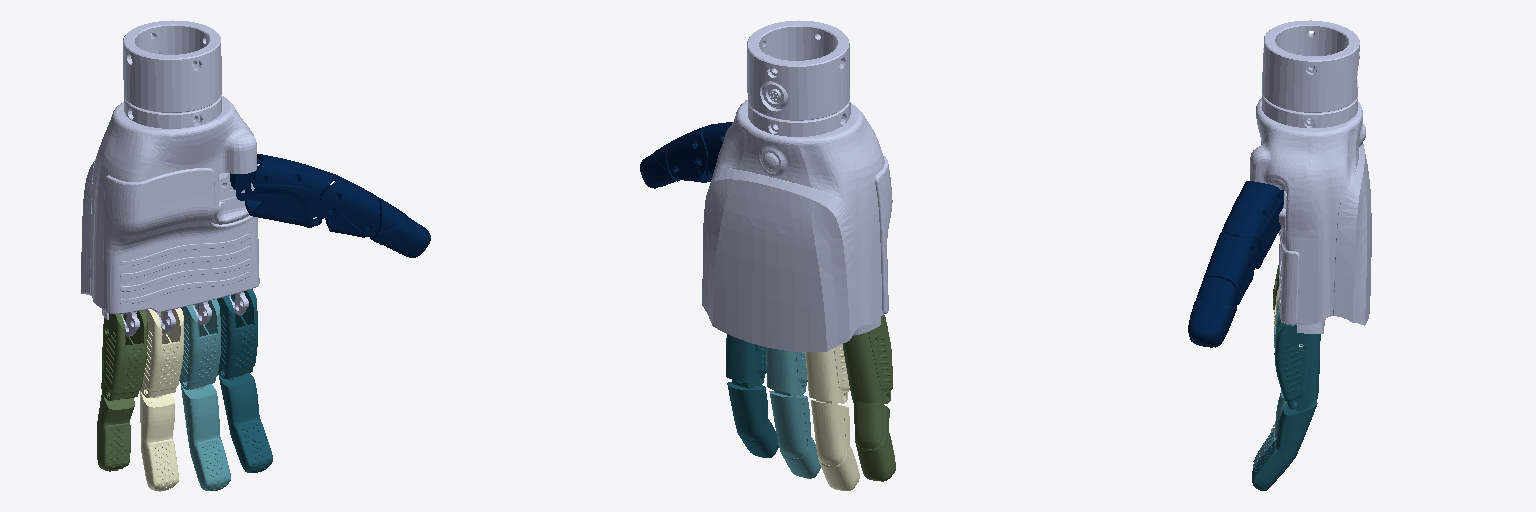
The robot description file, URDF, robot "combined_robot":
<?xml version="1.0" ?>
<!-- =================================================================================== -->
<!-- |    This document was autogenerated by xacro from [local-path]/paradex/paradex/utils/../../rsc/robot/robot_combined.urdf.xacro | -->
<!-- |    EDITING THIS FILE BY HAND IS NOT RECOMMENDED                                 | -->
<!-- =================================================================================== -->
<robot name="combined_robot">
  <!--
      Material colors
    -->
  <!-- Basic colors -->
  <material name="Black">
    <color rgba="0.0 0.0 0.0 1.0"/>
  </material>
  <material name="Red">
    <color rgba="0.8 0.0 0.0 1.0"/>
  </material>
  <material name="White">
    <color rgba="1.0 1.0 1.0 1.0"/>
  </material>
  <material name="Silver">
    <color rgba="0.753 0.753 0.753 1.0"/>
  </material>
  <!--
    Base
  -->
  <!-- Base link -->
  <link name="world"/>
  <joint name="world_joint" type="fixed">
    <parent link="world"/>
    <child link="link_base"/>
    <origin rpy="0 0 0" xyz="0 0 0"/>
  </joint>
  <link name="link_base">
    <visual>
      <geometry>
        <mesh filename="xarm/meshes/base.obj"/>
      </geometry>
      <origin rpy="0 0 0" xyz="0 0 0"/>
      <material name="White"/>
    </visual>
    <collision>
      <geometry>
        <mesh filename="xarm/meshes/base.obj"/>
      </geometry>
      <origin rpy="0 0 0" xyz="0 0 0"/>
    </collision>
    <inertial>
      <origin rpy="0 0 0" xyz="0.0 0.0 0.09103"/>
      <mass value="2.7"/>
      <inertia ixx="0.00494875" ixy="-3.5E-06" ixz="1.25E-05" iyy="0.00494174" iyz="1.67E-06" izz="0.002219"/>
    </inertial>
  </link>
  <link name="link1">
    <visual>
      <geometry>
        <mesh filename="xarm/meshes/link1.obj"/>
      </geometry>
      <origin rpy="0 0 0" xyz="0 0 0"/>
      <material name="White"/>
    </visual>
    <collision>
      <geometry>
        <mesh filename="xarm/meshes/link1.obj"/>
      </geometry>
      <origin rpy="0 0 0" xyz="0 0 0"/>
    </collision>
    <inertial>
      <origin rpy="0 0 0" xyz="-0.002 0.02692 -0.01332"/>
      <mass value="2.16"/>
      <inertia ixx="0.00539427" ixy="1.095E-05" ixz="1.635E-06" iyy="0.0048979" iyz="0.000793" izz="0.00311573"/>
    </inertial>
  </link>
  <joint name="joint1" type="revolute">
    <parent link="link_base"/>
    <child link="link1"/>
    <origin rpy="0 0 0" xyz="0 0 0.267"/>
    <axis xyz="0 0 1"/>
    <limit effort="500.0" lower="-6.28318530718" upper="6.28318530718" velocity="3.14"/>
    <dynamics damping="0.0001" friction="0.01"/>
  </joint>
  <link name="link2">
    <visual>
      <geometry>
        <mesh filename="xarm/meshes/link2.obj"/>
      </geometry>
      <origin rpy="0 0 0" xyz="0 0 0"/>
      <material name="White"/>
    </visual>
    <collision>
      <geometry>
        <mesh filename="xarm/meshes/link2.obj"/>
      </geometry>
      <origin rpy="0 0 0" xyz="0 0 0"/>
    </collision>
    <inertial>
      <origin rpy="0 0 0" xyz="0.03531 -0.21398 0.03386"/>
      <mass value="1.71"/>
      <inertia ixx="0.0248674" ixy="-0.00430651" ixz="-0.00067797" iyy="0.00485548" iyz="0.00457245" izz="0.02387827"/>
    </inertial>
  </link>
  <joint name="joint2" type="revolute">
    <parent link="link1"/>
    <child link="link2"/>
    <origin rpy="-1.5708 0 0" xyz="0 0 0"/>
    <axis xyz="0 0 1"/>
    <limit effort="50.0" lower="-2.059" upper="2.0944" velocity="3.14"/>
    <dynamics damping="0.0001" friction="0.01"/>
  </joint>
  <link name="link3">
    <visual>
      <geometry>
        <mesh filename="xarm/meshes/link3.obj"/>
      </geometry>
      <origin rpy="0 0 0" xyz="0 0 0"/>
      <material name="White"/>
    </visual>
    <collision>
      <geometry>
        <mesh filename="xarm/meshes/link3.obj"/>
      </geometry>
      <origin rpy="0 0 0" xyz="0 0 0"/>
    </collision>
    <inertial>
      <origin rpy="0 0 0" xyz="0.06781 0.10749 0.01457"/>
      <mass value="1.384"/>
      <inertia ixx="0.0053694" ixy="0.0014185" ixz="-0.00092094" iyy="0.0032423" iyz="-0.00169178" izz="0.00501731"/>
    </inertial>
  </link>
  <joint name="joint3" type="revolute">
    <parent link="link2"/>
    <child link="link3"/>
    <origin rpy="0 0 0" xyz="0.0535 -0.2845 0"/>
    <axis xyz="0 0 1"/>
    <limit effort="32.0" lower="-3.927" upper="0.19198" velocity="3.14"/>
    <dynamics damping="0.0001" friction="0.01"/>
  </joint>
  <link name="link4">
    <visual>
      <geometry>
        <mesh filename="xarm/meshes/link4.obj"/>
      </geometry>
      <origin rpy="0 0 0" xyz="0 0 0"/>
      <material name="White"/>
    </visual>
    <collision>
      <geometry>
        <mesh filename="xarm/meshes/link4.obj"/>
      </geometry>
      <origin rpy="0 0 0" xyz="0 0 0"/>
    </collision>
    <inertial>
      <origin rpy="0 0 0" xyz="-0.00021 0.02578 -0.02538"/>
      <mass value="1.115"/>
      <inertia ixx="0.00439263" ixy="5.028E-05" ixz="1.374E-05" iyy="0.0040077" iyz="0.00045338" izz="0.00110321"/>
    </inertial>
  </link>
  <joint name="joint4" type="revolute">
    <parent link="link3"/>
    <child link="link4"/>
    <origin rpy="-1.5708 0 0" xyz="0.0775 0.3425 0"/>
    <axis xyz="0 0 1"/>
    <limit effort="32.0" lower="-6.28318530718" upper="6.28318530718" velocity="3.14"/>
    <dynamics damping="0.0001" friction="0.01"/>
  </joint>
  <link name="link5">
    <visual>
      <geometry>
        <mesh filename="xarm/meshes/link5.obj"/>
      </geometry>
      <origin rpy="0 0 0" xyz="0 0 0"/>
      <material name="White"/>
    </visual>
    <collision>
      <geometry>
        <mesh filename="xarm/meshes/link5.obj"/>
      </geometry>
      <origin rpy="0 0 0" xyz="0 0 0"/>
    </collision>
    <inertial>
      <origin rpy="0 0 0" xyz="0.05428 0.01781 0.00543"/>
      <mass value="1.275"/>
      <inertia ixx="0.001202758" ixy="0.000492428" ixz="-0.00039147" iyy="0.0022876" iyz="-1.235E-04" izz="0.0026866"/>
    </inertial>
  </link>
  <joint name="joint5" type="revolute">
    <parent link="link4"/>
    <child link="link5"/>
    <origin rpy="1.5708 0 0" xyz="0 0 0"/>
    <axis xyz="0 0 1"/>
    <limit effort="32.0" lower="-1.69297" upper="3.14159265359" velocity="3.14"/>
    <dynamics damping="0.0001" friction="0.01"/>
  </joint>
  <link name="link6">
    <visual>
      <geometry>
        <mesh filename="xarm/meshes/link6.obj"/>
      </geometry>
      <origin rpy="0 0 0" xyz="0 0 0"/>
      <material name="Silver"/>
    </visual>
    <collision>
      <geometry>
        <mesh filename="xarm/meshes/link6.obj"/>
      </geometry>
      <origin rpy="0 0 0" xyz="0 0 0"/>
    </collision>
    <inertial>
      <origin rpy="0 0 0" xyz="0 0.00064 -0.00952"/>
      <mass value="0.1096"/>
      <inertia ixx="4.5293E-05" ixy="0" ixz="0" iyy="4.8111E-05" iyz="0" izz="7.9715E-05"/>
    </inertial>
  </link>
  <joint name="joint6" type="revolute">
    <parent link="link5"/>
    <child link="link6"/>
    <origin rpy="-1.5708 0 0" xyz="0.076 0.097 0"/>
    <axis xyz="0 0 1"/>
    <limit effort="20.0" lower="-6.28318530718" upper="6.28318530718" velocity="3.14"/>
    <dynamics damping="0.0001" friction="0.01"/>
  </joint>
  <link name="wrist"/>
  <joint name="L_hand_base_joint" type="fixed">
    <origin rpy="0  0 0" xyz="0 0 0"/>
    <parent link="wrist"/>
    <child link="base_link"/>
  </joint>
  <link name="base_link">
    <inertial>
      <origin rpy="0 0 0" xyz="-5.81855257230368E-05 0.0036855956860619 -0.0826153899028331"/>
      <mass value="0.260034351097693"/>
      <inertia ixx="0.000223659755666589" ixy="-1.13436481934473E-06" ixz="5.34309354519849E-07" iyy="0.000266799681483547" iyz="1.40944118648867E-05" izz="0.000132857769181899"/>
    </inertial>
    <visual>
      <origin rpy="0 0 0" xyz="0 0 0"/>
      <geometry>
        <mesh filename="inspire/meshes_left/base_link.STL"/>
      </geometry>
      <material name="">
        <color rgba="0.792156862745098 0.819607843137255 0.933333333333333 1"/>
      </material>
    </visual>
    <collision>
      <origin rpy="0 0 0" xyz="0 0 0"/>
      <geometry>
        <mesh filename="inspire/meshes_left/base_link.STL"/>
      </geometry>
    </collision>
  </link>
  <link name="left_thumb_1">
    <inertial>
      <origin rpy="0 0 0" xyz="0.00178423404495211 -0.000649404577309123 -0.0031358931043441"/>
      <mass value="0.00115518743162309"/>
      <inertia ixx="5.98912200501135E-08" ixy="-8.04315731947437E-09" ixz="-3.29346919841095E-09" iyy="4.07201234589857E-08" iyz="1.19872544716431E-09" izz="6.18161684388651E-08"/>
    </inertial>
    <visual>
      <origin rpy="0 0 0" xyz="0 0 0"/>
      <geometry>
        <mesh filename="inspire/meshes_left/left_thumb_1.STL"/>
      </geometry>
      <material name="">
        <color rgba="0.047 0.173 0.333 1.0"/>
      </material>
    </visual>
    <collision>
      <origin rpy="0 0 0" xyz="0 0 0"/>
      <geometry>
        <mesh filename="inspire/meshes_left/left_thumb_1.STL"/>
      </geometry>
    </collision>
  </link>
  <joint name="left_thumb_1_joint" type="revolute">
    <origin rpy="0 0 0" xyz="0.0269 -0.02101 -0.07075"/>
    <parent link="base_link"/>
    <child link="left_thumb_1"/>
    <axis xyz="0 0 -1"/>
    <limit effort="10" lower="0" upper="1.15" velocity="1"/>
  </joint>
  <link name="left_thumb_2">
    <inertial>
      <origin rpy="0 0 0" xyz="0.0141077165126408 0.013272947664556 0.00905027694248729"/>
      <mass value="0.016"/>
      <inertia ixx="1.06585698719649E-06" ixy="-7.62263321516971E-08" ixz="2.95033226564006E-11" iyy="1.06558155578278E-06" iyz="1.55271585897891E-11" izz="1.39709651951733E-06"/>
    </inertial>
    <visual>
      <origin rpy="0 0 0" xyz="0 0 0"/>
      <geometry>
        <mesh filename="inspire/meshes_left/left_thumb_2.STL"/>
      </geometry>
      <material name="">
        <color rgba="0.047 0.173 0.333 1.0"/>
      </material>
    </visual>
    <collision>
      <origin rpy="0 0 0" xyz="0 0 0"/>
      <geometry>
        <mesh filename="inspire/meshes_left/left_thumb_2.STL"/>
      </geometry>
    </collision>
  </link>
  <joint name="left_thumb_2_joint" type="revolute">
    <origin rpy="-1.5708 0 -0.34907" xyz="0.0063016 -0.011924 -0.00125"/>
    <parent link="left_thumb_1"/>
    <child link="left_thumb_2"/>
    <axis xyz="0 0 1"/>
    <limit effort="10" lower="0" upper="0.55" velocity="1"/>
  </joint>
  <link name="left_thumb_3">
    <inertial>
      <origin rpy="0 0 0" xyz="0.0175210608796189 -0.000458783419545392 0.00589186777098984"/>
      <mass value="0.012"/>
      <inertia ixx="4.67948369620491E-07" ixy="-4.4974688607358E-08" ixz="1.01425359574474E-11" iyy="3.98794196148187E-07" iyz="2.07037920898898E-10" izz="4.24723917424999E-07"/>
    </inertial>
    <visual>
      <origin rpy="0 0 0" xyz="0 0 0"/>
      <geometry>
        <mesh filename="inspire/meshes_left/left_thumb_3.STL"/>
      </geometry>
      <material name="">
        <color rgba="0.047 0.173 0.333 1.0"/>
      </material>
    </visual>
    <collision>
      <origin rpy="0 0 0" xyz="0 0 0"/>
      <geometry>
        <mesh filename="inspire/meshes_left/left_thumb_3.STL"/>
      </geometry>
    </collision>
  </link>
  <joint name="left_thumb_3_joint" type="revolute">
    <origin rpy="0 0 0" xyz="0.026828 0.02583 0.00315"/>
    <parent link="left_thumb_2"/>
    <child link="left_thumb_3"/>
    <axis xyz="0 0 1"/>
    <limit effort="10" lower="0" upper="3.14" velocity="1"/>
    <!-- <mimic joint="left_thumb_2_joint" multiplier="0.60" offset="0"/> -->
    <!-- <mimic joint="left_thumb_2_joint" multiplier="1.334" offset="0"/> -->
    <mimic joint="left_thumb_2_joint" multiplier="1.114" offset="0"/>
  </joint>
  <link name="left_thumb_4">
    <inertial>
      <origin rpy="0 0 0" xyz="0.0159972574626049 0.0063105797700872 0.0073433144647696"/>
      <mass value="0.01"/>
      <inertia ixx="6.4362640059723E-07" ixy="-2.57376746969386E-07" ixz="-8.63129696542143E-10" iyy="7.63678708562786E-07" iyz="-7.21288836303217E-10" izz="9.2570163408105E-07"/>
    </inertial>
    <visual>
      <origin rpy="0 0 0" xyz="0 0 0"/>
      <geometry>
        <mesh filename="inspire/meshes_left/left_thumb_4.STL"/>
      </geometry>
      <material name="">
        <color rgba="0.047 0.173 0.333 1.0"/>
      </material>
    </visual>
    <collision>
      <origin rpy="0 0 0" xyz="0 0 0"/>
      <geometry>
        <mesh filename="inspire/meshes_left/left_thumb_4.STL"/>
      </geometry>
    </collision>
  </link>
  <joint name="left_thumb_4_joint" type="revolute">
    <origin rpy="0 0 0" xyz="0.027027 0.0069965 -0.00145"/>
    <parent link="left_thumb_3"/>
    <child link="left_thumb_4"/>
    <axis xyz="0 0 1"/>
    <limit effort="10" lower="0" upper="3.14" velocity="1"/>
    <!-- <mimic joint="left_thumb_2_joint" multiplier="0.8" offset="0"/> -->
    <mimic joint="left_thumb_2_joint" multiplier="0.62" offset="0"/>
  </joint>
  <link name="left_index_1">
    <inertial>
      <origin rpy="0 0 0" xyz="-0.00183599258071257 0.0123544163382434 -0.00665152565125451"/>
      <mass value="0.0071995003148682"/>
      <inertia ixx="1.28363093823079E-06" ixy="4.22091506924093E-08" ixz="-1.1741465013013E-12" iyy="5.79447850871435E-07" iyz="-8.63816965731366E-11" izz="1.32914845722975E-06"/>
    </inertial>
    <visual>
      <origin rpy="0 0 0" xyz="0 0 0"/>
      <geometry>
        <mesh filename="inspire/meshes_left/left_index_1.STL"/>
      </geometry>
      <material name="">
        <color rgba="0.161 0.388 0.455 1.0"/>
      </material>
    </visual>
    <collision>
      <origin rpy="0 0 0" xyz="0 0 0"/>
      <geometry>
        <mesh filename="inspire/meshes_left/left_index_1.STL"/>
      </geometry>
    </collision>
  </link>
  <joint name="left_index_1_joint" type="revolute">
    <origin rpy="-1.6057 0 1.5708" xyz="0.025387 -0.00056467 -0.15686"/>
    <parent link="base_link"/>
    <child link="left_index_1"/>
    <axis xyz="0 0 1"/>
    <limit effort="10" lower="0" upper="1.6" velocity="1"/>
  </joint>
  <link name="left_index_2">
    <inertial>
      <origin rpy="0 0 0" xyz="0.000405420051948283 0.0257003783460073 -0.00610830787560272"/>
      <mass value="0.00968688267109518"/>
      <inertia ixx="2.25563043691857E-06" ixy="4.11282885240034E-07" ixz="3.87338024122588E-10" iyy="3.91279806505403E-07" iyz="-2.76559043550419E-09" izz="2.30247359295784E-06"/>
    </inertial>
    <visual>
      <origin rpy="0 0 0" xyz="0 0 0"/>
      <geometry>
        <mesh filename="inspire/meshes_left/left_index_2.STL"/>
      </geometry>
      <material name="">
        <color rgba="0.161 0.388 0.455 1.0"/>
      </material>
    </visual>
    <collision>
      <origin rpy="0 0 0" xyz="0 0 0"/>
      <geometry>
        <mesh filename="inspire/meshes_left/left_index_2.STL"/>
      </geometry>
    </collision>
  </link>
  <joint name="left_index_2_joint" type="revolute">
    <origin rpy="0 0 0" xyz="-0.0016312 0.032734 -0.00055"/>
    <parent link="left_index_1"/>
    <child link="left_index_2"/>
    <axis xyz="0 0 1"/>
    <limit effort="10" lower="0" upper="3.14" velocity="1"/>
    <!-- <mimic joint="left_index_1_joint" multiplier="1.05" offset="0"/> -->
    <!-- <mimic joint="left_index_1_joint" multiplier="1.06399" offset="-0.04545"/> -->
    <mimic joint="left_index_1_joint" multiplier="0.67" offset="0.22"/>

  </joint>
  <link name="left_middle_1">
    <inertial>
      <origin rpy="0 0 0" xyz="-0.00229271394242232 0.0122778605414752 -0.00665151068667683"/>
      <mass value="0.00719950322487974"/>
      <inertia ixx="1.27951858905779E-06" ixy="6.81813021711596E-08" ixz="1.58551121583499E-12" iyy="5.83543537428452E-07" iyz="-8.56179612608701E-11" izz="1.32913234511164E-06"/>
    </inertial>
    <visual>
      <origin rpy="0 0 0" xyz="0 0 0"/>
      <geometry>
        <mesh filename="inspire/meshes_left/left_middle_1.STL"/>
      </geometry>
      <material name="">
        <color rgba="0.384 0.624 0.678 1.0"/>
      </material>
    </visual>
    <collision>
      <origin rpy="0 0 0" xyz="0 0 0"/>
      <geometry>
        <mesh filename="inspire/meshes_left/left_middle_1.STL"/>
      </geometry>
    </collision>
  </link>
  <joint name="left_middle_1_joint" type="revolute">
    <origin rpy="-1.5708 0 1.5708" xyz="0.0037996 -0.00056467 -0.157"/>
    <parent link="base_link"/>
    <child link="left_middle_1"/>
    <axis xyz="0 0 1"/>
    <limit effort="1" lower="0" upper="1.6" velocity="1"/>
  </joint>
  <link name="left_middle_2">
    <inertial>
      <origin rpy="0 0 0" xyz="7.51983994427274E-05 0.027448753770842 -0.00610022997575017"/>
      <mass value="0.0104611931926301"/>
      <inertia ixx="2.75831931773332E-06" ixy="4.66412841401028E-07" ixz="7.35766561775226E-12" iyy="4.22466538741155E-07" iyz="-1.79608426686769E-11" izz="2.80722617348706E-06"/>
    </inertial>
    <visual>
      <origin rpy="0 0 0" xyz="0 0 0"/>
      <geometry>
        <mesh filename="inspire/meshes_left/left_middle_2.STL"/>
      </geometry>
      <material name="">
        <color rgba="0.384 0.624 0.678 1.0"/>
      </material>
    </visual>
    <collision>
      <origin rpy="0 0 0" xyz="0 0 0"/>
      <geometry>
        <mesh filename="inspire/meshes_left/left_middle_2.STL"/>
      </geometry>
    </collision>
  </link>
  <joint name="left_middle_2_joint" type="revolute">
    <origin rpy="0 0 0" xyz="-0.0028436 0.032651 -0.00055"/>
    <parent link="left_middle_1"/>
    <child link="left_middle_2"/>
    <axis xyz="0 0 1"/>
    <limit effort="10" lower="0" upper="3.14" velocity="1"/>
    <mimic joint="left_middle_1_joint" multiplier="0.88" offset="0.15"/>
  </joint>
  <link name="left_ring_1">
    <inertial>
      <origin rpy="0 0 0" xyz="-0.00240530428455066 0.0122563079467745 -0.00665150968297497"/>
      <mass value="0.00719949770218712"/>
      <inertia ixx="1.27820682409824E-06" ixy="7.45572429780093E-08" ixz="2.25718181808859E-12" iyy="5.84853511073517E-07" iyz="-8.56222330411309E-11" izz="1.32913088941838E-06"/>
    </inertial>
    <visual>
      <origin rpy="0 0 0" xyz="0 0 0"/>
      <geometry>
        <mesh filename="inspire/meshes_left/left_ring_1.STL"/>
      </geometry>
      <material name="">
        <color rgba="0.929 0.929 0.808 1.0"/>
      </material>
    </visual>
    <collision>
      <origin rpy="0 0 0" xyz="0 0 0"/>
      <geometry>
        <mesh filename="inspire/meshes_left/left_ring_1.STL"/>
      </geometry>
    </collision>
  </link>
  <joint name="left_ring_1_joint" type="revolute">
    <origin rpy="-1.5184 0 1.5708" xyz="-0.017813 -0.00056467 -0.15614"/>
    <parent link="base_link"/>
    <child link="left_ring_1"/>
    <axis xyz="0 0 1"/>
    <limit effort="10" lower="0" upper="1.6" velocity="1"/>
  </joint>
  <link name="left_ring_2">
    <inertial>
      <origin rpy="0 0 0" xyz="0.000667145407605998 0.0256949163202511 -0.00610829894053159"/>
      <mass value="0.00968685177133057"/>
      <inertia ixx="2.26381138740299E-06" ixy="3.92210300202205E-07" ixz="3.58404653503583E-10" iyy="3.83095000534084E-07" iyz="-2.77027363965469E-09" izz="2.30247104599333E-06"/>
    </inertial>
    <visual>
      <origin rpy="0 0 0" xyz="0 0 0"/>
      <geometry>
        <mesh filename="inspire/meshes_left/left_ring_2.STL"/>
      </geometry>
      <material name="">
        <color rgba="0.929 0.929 0.808 1.0"/>
      </material>
    </visual>
    <collision>
      <origin rpy="0 0 0" xyz="0 0 0"/>
      <geometry>
        <mesh filename="inspire/meshes_left/left_ring_2.STL"/>
      </geometry>
    </collision>
  </link>
  <joint name="left_ring_2_joint" type="revolute">
    <origin rpy="0 0 0" xyz="-0.0031431 0.032624 -0.00055"/>
    <parent link="left_ring_1"/>
    <child link="left_ring_2"/>
    <axis xyz="0 0 1"/>
    <limit effort="10" lower="0" upper="3.14" velocity="1"/>
    <mimic joint="left_ring_1_joint" multiplier="1.05" offset="0"/>
  </joint>
  <link name="left_little_1">
    <inertial>
      <origin rpy="0 0 0" xyz="-0.00316889023513399 0.0120814769898197 -0.00665148964848"/>
      <mass value="0.0071994553320001"/>
      <inertia ixx="1.26614239360362E-06" ixy="1.17349328114653E-07" ixz="6.69925886240907E-12" iyy="5.96905140854994E-07" iyz="-8.54914063893311E-11" izz="1.32912203576944E-06"/>
    </inertial>
    <visual>
      <origin rpy="0 0 0" xyz="0 0 0"/>
      <geometry>
        <mesh filename="inspire/meshes_left/left_little_1.STL"/>
      </geometry>
      <material name="">
        <color rgba="0.369 0.451 0.314 1.0"/>
      </material>
    </visual>
    <collision>
      <origin rpy="0 0 0" xyz="0 0 0"/>
      <geometry>
        <mesh filename="inspire/meshes_left/left_little_1.STL"/>
      </geometry>
    </collision>
  </link>
  <joint name="left_little_1_joint" type="revolute">
    <origin rpy="-1.4661 0 1.5708" xyz="-0.039144 -0.00056467 -0.15226"/>
    <parent link="base_link"/>
    <child link="left_little_1"/>
    <axis xyz="0 0 1"/>
    <limit effort="10" lower="0" upper="1.6" velocity="1"/>
  </joint>
  <link name="left_little_2">
    <inertial>
      <origin rpy="0 0 0" xyz="0.00469503836926433 0.020441957551037 -0.0061004930536056"/>
      <mass value="0.00759267726265222"/>
      <inertia ixx="1.27661762368947E-06" ixy="7.27034842413144E-08" ixz="1.62724400979504E-12" iyy="2.31536498425727E-07" iyz="-9.71604458446237E-12" izz="1.23907231734916E-06"/>
    </inertial>
    <visual>
      <origin rpy="0 0 0" xyz="0 0 0"/>
      <geometry>
        <mesh filename="inspire/meshes_left/left_little_2.STL"/>
      </geometry>
      <material name="">
        <color rgba="0.369 0.451 0.314 1.0"/>
      </material>
    </visual>
    <collision>
      <origin rpy="0 0 0" xyz="0 0 0"/>
      <geometry>
        <mesh filename="inspire/meshes_left/left_little_2.STL"/>
      </geometry>
    </collision>
  </link>
  <joint name="left_little_2_joint" type="revolute">
    <origin rpy="0 0 0" xyz="-0.005182 0.032363 -0.00055"/>
    <parent link="left_little_1"/>
    <child link="left_little_2"/>
    <axis xyz="0 0 1"/>
    <!-- <limit effort="10" lower="0" upper="3.14" velocity="1"/> -->
    <!-- <mimic joint="left_little_1_joint" multiplier="1.18" offset="0"/> -->
    <limit lower="-0.04545" upper="1.56" effort="1" velocity="0.5"/>
    <!-- <mimic joint="left_little_1_joint" multiplier="1.06399" offset="-0.04545"/> -->
    <mimic joint="left_little_1_joint" multiplier="0.9889" offset="-0.03126"/>

  </joint>
  <joint name="arm_to_hand" type="fixed">
    <parent link="link6"/>
    <child link="wrist"/>
    <!-- <origin rpy="3.128 0.00000 0.0000" xyz="0.00450 0.00000 0.0350"/> -->
    <origin rpy="3.11 0.00000 0.0000" xyz="0.00450 0.00000 0.0350"/>
  </joint>
</robot>

--- Render facts (derived) ---
3 views of the same robot in one strip: view 1: azimuth 30°, elevation 25°; view 2: azimuth 150°, elevation 25°; view 3: azimuth 270°, elevation 25° (orthographic).
Model combined_robot with 22 links and 21 joints (18 revolute, 3 fixed), rooted at world, posed all joints at 0.
Links seen in each view (by area): view 1: base_link, left_thumb_2, left_middle_2, left_little_1, left_index_2, left_ring_2, left_ring_1, left_middle_1, left_thumb_3, left_index_1, left_little_2, left_thumb_4 (+1 smaller); view 2: base_link, left_little_1, left_ring_2, left_middle_2, left_little_2, left_index_2, left_ring_1, left_thumb_3, left_middle_1, left_index_1, left_thumb_4, left_thumb_2; view 3: base_link, left_index_1, left_thumb_2, left_thumb_4, left_index_2, left_thumb_3.
Link boxes in pixels (x1,y1,x2,y2): base_link: (81, 20, 259, 336); left_thumb_2: (245, 154, 334, 227); left_middle_2: (181, 384, 230, 490); left_little_1: (101, 310, 147, 400); left_index_2: (218, 373, 272, 472); left_ring_2: (140, 390, 178, 491); left_ring_1: (141, 308, 183, 397); left_middle_1: (179, 299, 220, 389); left_thumb_3: (319, 173, 380, 237); left_index_1: (217, 289, 257, 378); left_little_2: (97, 393, 134, 471); left_thumb_4: (365, 197, 430, 257); base_link: (702, 20, 892, 352); left_little_1: (843, 315, 892, 403); left_ring_2: (811, 399, 859, 490); left_middle_2: (769, 390, 820, 478); left_little_2: (853, 401, 895, 481); left_index_2: (727, 380, 778, 457); left_ring_1: (805, 344, 849, 403); left_thumb_3: (667, 124, 712, 182); left_middle_1: (766, 347, 807, 395); left_index_1: (726, 334, 766, 385); left_thumb_4: (640, 139, 679, 188); left_thumb_2: (703, 122, 732, 179); base_link: (1250, 20, 1371, 346); left_index_1: (1274, 320, 1320, 409); left_thumb_2: (1222, 181, 1282, 268); left_thumb_4: (1188, 277, 1236, 347); left_index_2: (1252, 400, 1317, 490); left_thumb_3: (1202, 232, 1258, 304).
Bounding box of the posed robot: 0.1666 × 0.0951 × 0.2456 m (x, y, z).
Meshes: 20 distinct files referenced, 13 mesh visuals loaded (13 binary STL); not drawn: 7 (reference not matched to a file when rendering).